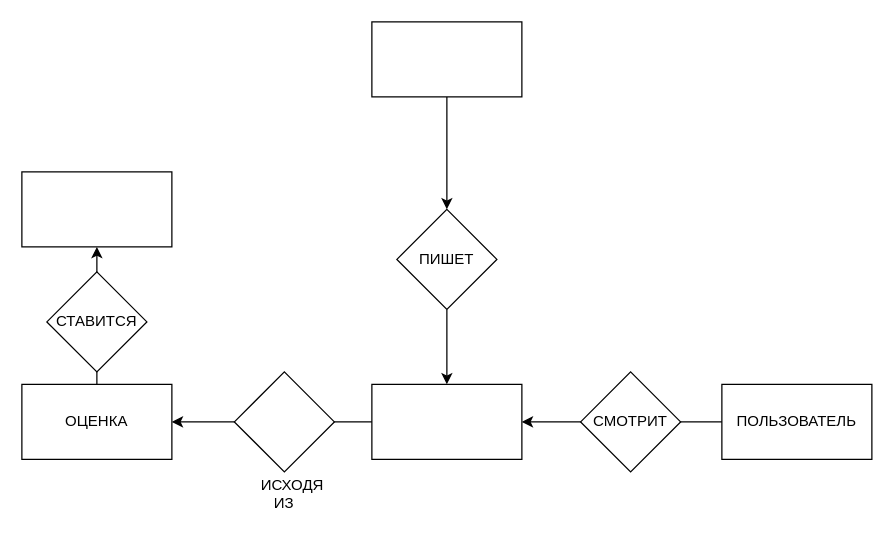
This 894x534 diagram has some shape labels left out. The centre of each missing label's shape, as x and y in pixels:
ИГРА: the point at 96,209
КРИТИК: the point at 446,59
РЕЦЕНЗИЯ: the point at 446,421
